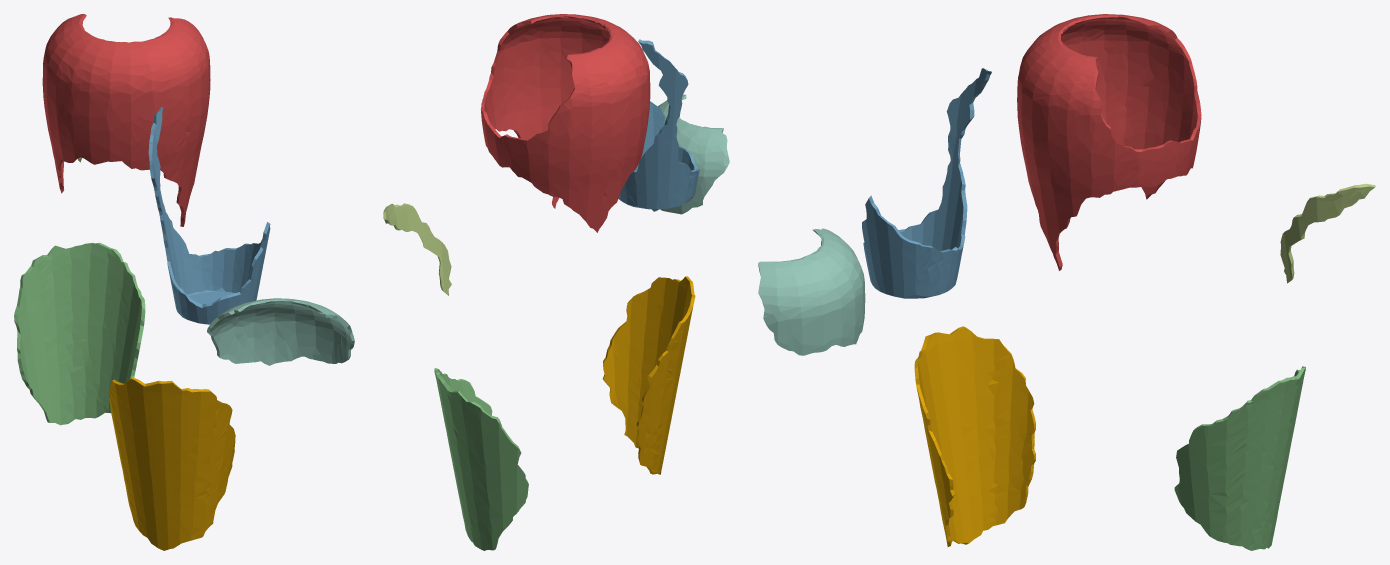
File: mode_5_6pcs_transformed.glb
The picture shows the model from 3 angles, left to right: view 1: azimuth 30°, elevation 25°; view 2: azimuth 150°, elevation 25°; view 3: azimuth 270°, elevation 25°; orthographic projection. The views are drawn at different scales.
Visible parts, largest first — view 1: piece_1.obj, piece_3.obj, piece_0.obj, piece_4.obj, piece_2.obj; view 2: piece_1.obj, piece_0.obj, piece_3.obj, piece_2.obj, piece_4.obj, piece_5.obj; view 3: piece_1.obj, piece_0.obj, piece_3.obj, piece_2.obj, piece_4.obj, piece_5.obj.
Part boxes in pixels (x1,y1,x2,y2): piece_1.obj: [42, 14, 210, 226]; piece_3.obj: [14, 242, 145, 425]; piece_0.obj: [109, 377, 235, 550]; piece_4.obj: [207, 298, 354, 365]; piece_2.obj: [148, 107, 270, 324]; piece_1.obj: [480, 14, 650, 232]; piece_0.obj: [603, 276, 695, 474]; piece_3.obj: [434, 368, 528, 550]; piece_2.obj: [618, 39, 699, 209]; piece_4.obj: [652, 94, 729, 214]; piece_5.obj: [383, 203, 451, 295]; piece_1.obj: [1017, 14, 1201, 270]; piece_0.obj: [914, 326, 1035, 546]; piece_3.obj: [1174, 366, 1305, 550]; piece_2.obj: [862, 68, 991, 298]; piece_4.obj: [758, 228, 865, 355]; piece_5.obj: [1280, 183, 1375, 283].
Size of the model in its own units: 0.4943 by 1.54 by 1.65.
